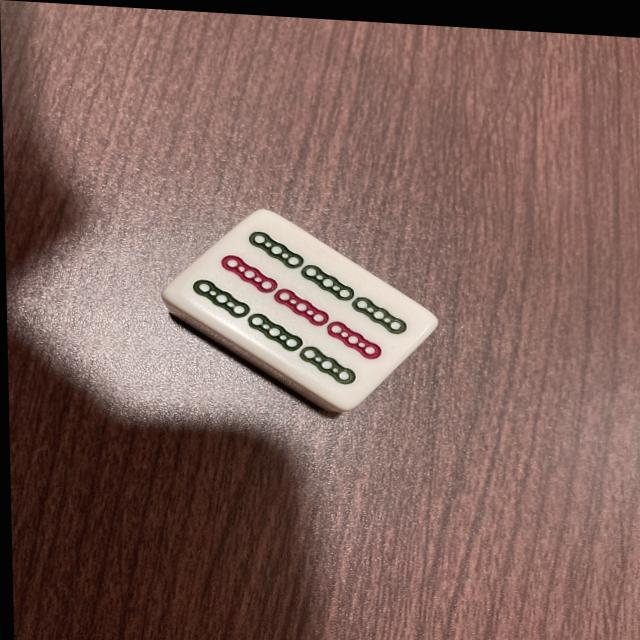s9: (173, 203, 430, 417)
